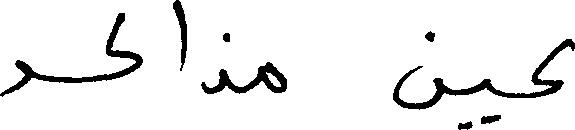X: (394, 26, 441, 114), (531, 34, 574, 102), (106, 8, 142, 85), (458, 74, 500, 129), (202, 28, 228, 98), (0, 55, 30, 101), (260, 57, 285, 97), (174, 0, 185, 75)
